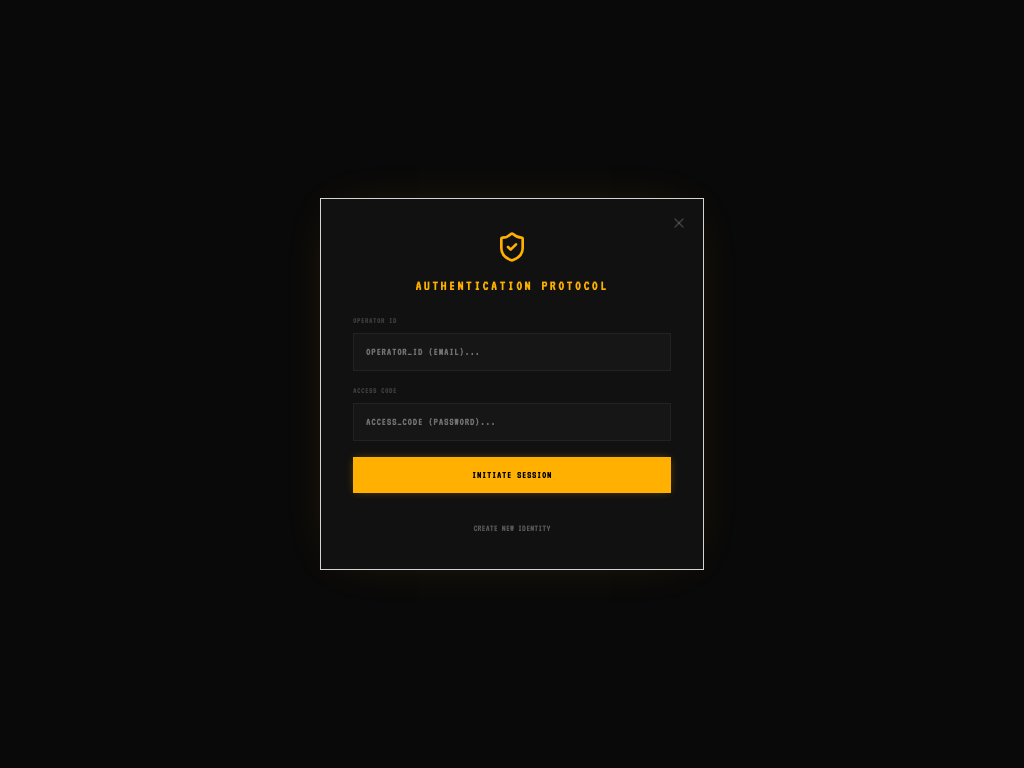
Test: AuthModal › toggles to sign up mode
Click the button "Create New Identity": [512, 530] box [474, 524, 550, 535]
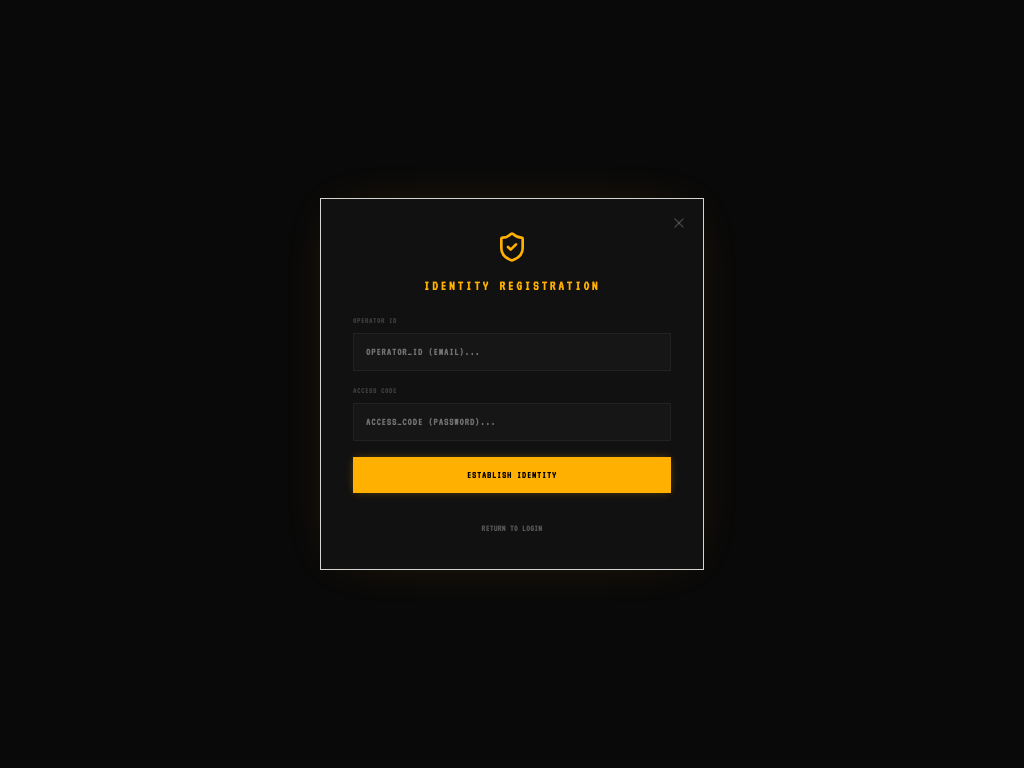
Check: the button "ESTABLISH IDENTITY" is shown, box [353, 458, 671, 494]
